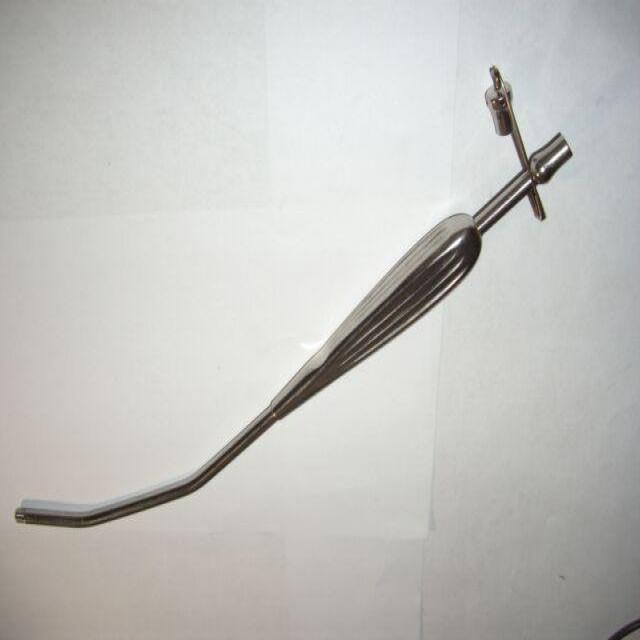Yankauer: (12, 125, 577, 538)
